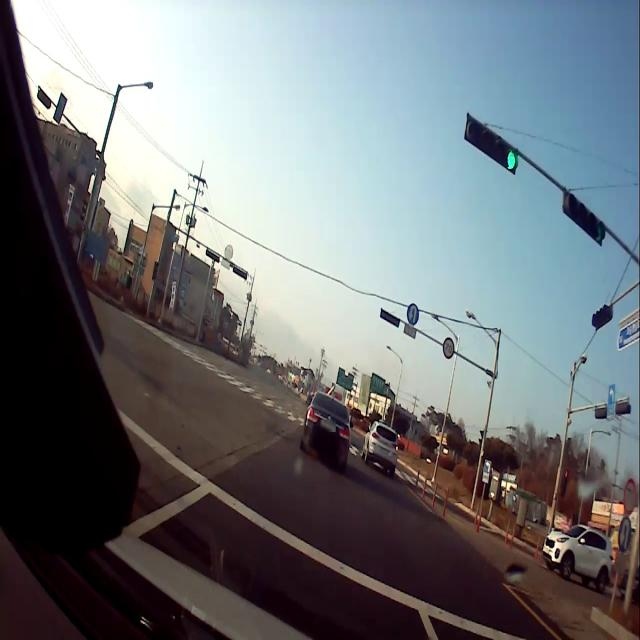Green Light: (504, 146, 518, 174)
